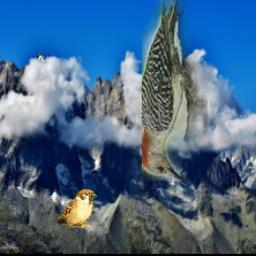Sparrow: (57, 189, 98, 229)
Woodpecker: (141, 0, 206, 182)
